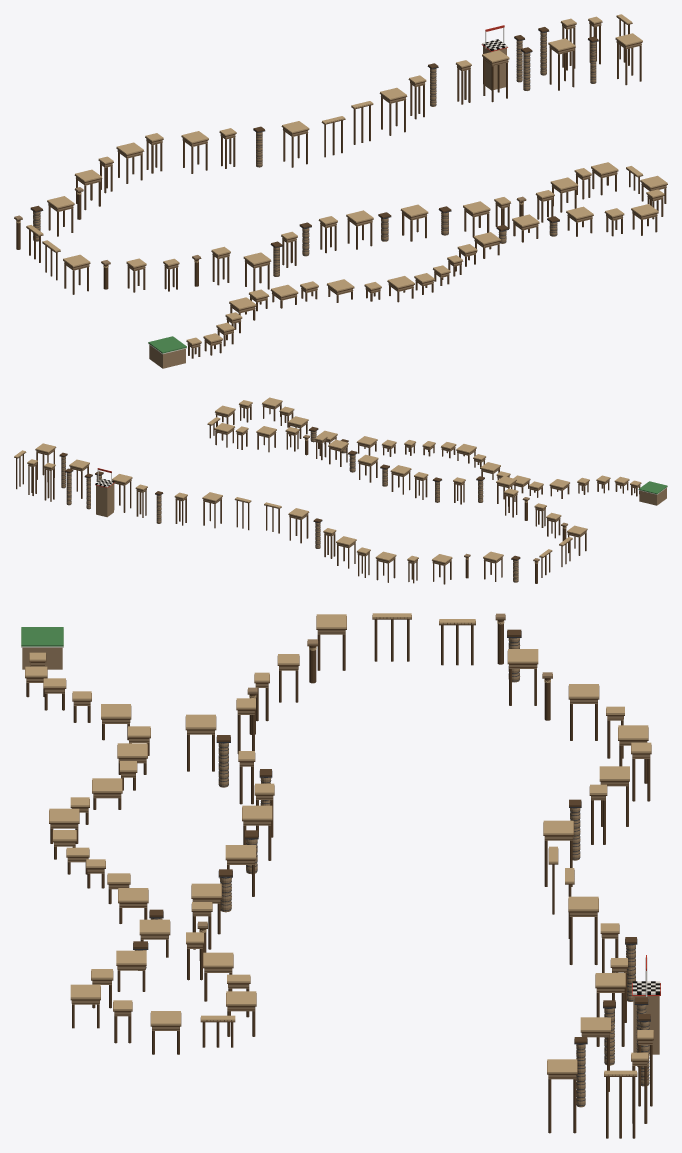
The model's file is caixotes.glb.
3 renders of one model, top to bottom at view 1: azimuth 30°, elevation 25°; view 2: azimuth 150°, elevation 25°; view 3: azimuth 270°, elevation 25°, orthographic. The views are drawn at different scales.
Visible parts, largest first — view 1: map_wood_dark.001, map_wood_light.001, map_wood.001, map_bh_steel_dark.001; view 2: map_wood_dark.001, map_wood_light.001, map_wood.001, map_bh_steel_dark.001; view 3: map_wood_dark.001, map_wood_light.001, map_wood.001, map_bh_steel_dark.001, map_bh_green.001.
Part boxes in pixels (x1,y1,x2,y2): map_wood_dark.001: [14, 16, 667, 358]; map_wood_light.001: [16, 14, 667, 344]; map_wood.001: [14, 21, 666, 368]; map_bh_steel_dark.001: [30, 29, 598, 276]; map_wood_dark.001: [14, 401, 641, 584]; map_wood_light.001: [14, 397, 641, 563]; map_wood.001: [28, 403, 666, 582]; map_bh_steel_dark.001: [59, 429, 520, 581]; map_wood_dark.001: [25, 615, 653, 1138]; map_wood_light.001: [25, 613, 653, 1075]; map_wood.001: [22, 613, 659, 1107]; map_bh_steel_dark.001: [133, 631, 650, 1105]; map_bh_green.001: [21, 627, 63, 646].
Bounding box in the file's own units: 166 × 13.85 × 91.98.
